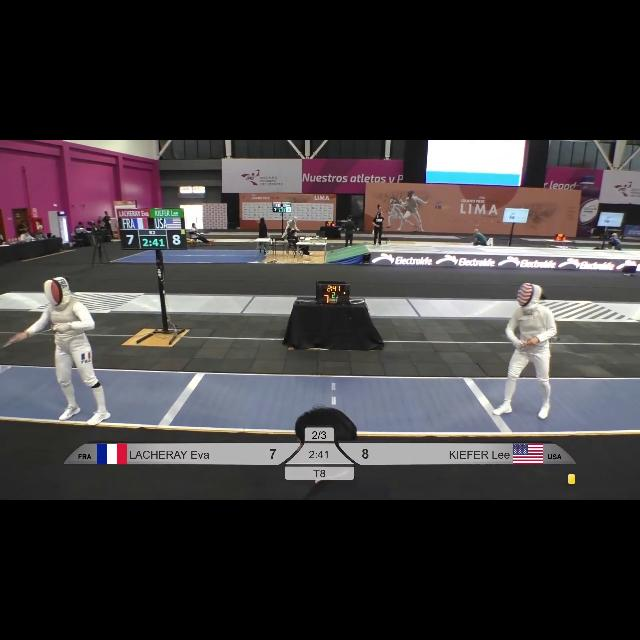blade: (520, 338, 596, 362), (2, 323, 60, 347)
